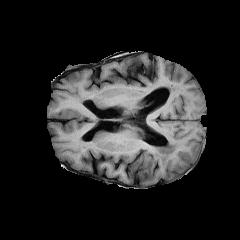glioma: (144, 142, 179, 171)
